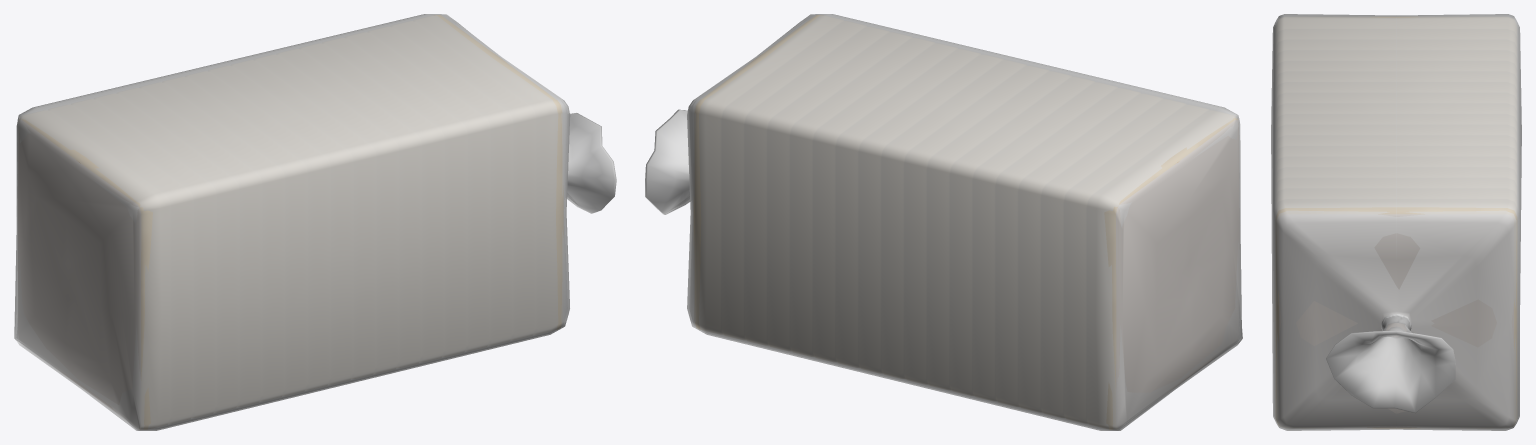
The model's file is Bread.fbx.
3 renders of one model, left to right at view 1: azimuth 30°, elevation 25°; view 2: azimuth 150°, elevation 25°; view 3: azimuth 270°, elevation 25°, orthographic. The views are drawn at different scales.
Parts seen in each view (by area): view 1: InBread; view 2: InBread; view 3: InBread.
Part boxes in pixels (x1,y1,x2,y2): InBread: (14, 14, 616, 430); InBread: (645, 14, 1242, 430); InBread: (1271, 14, 1521, 430).
Bounding box in the file's own units: 469 × 203 × 203.
